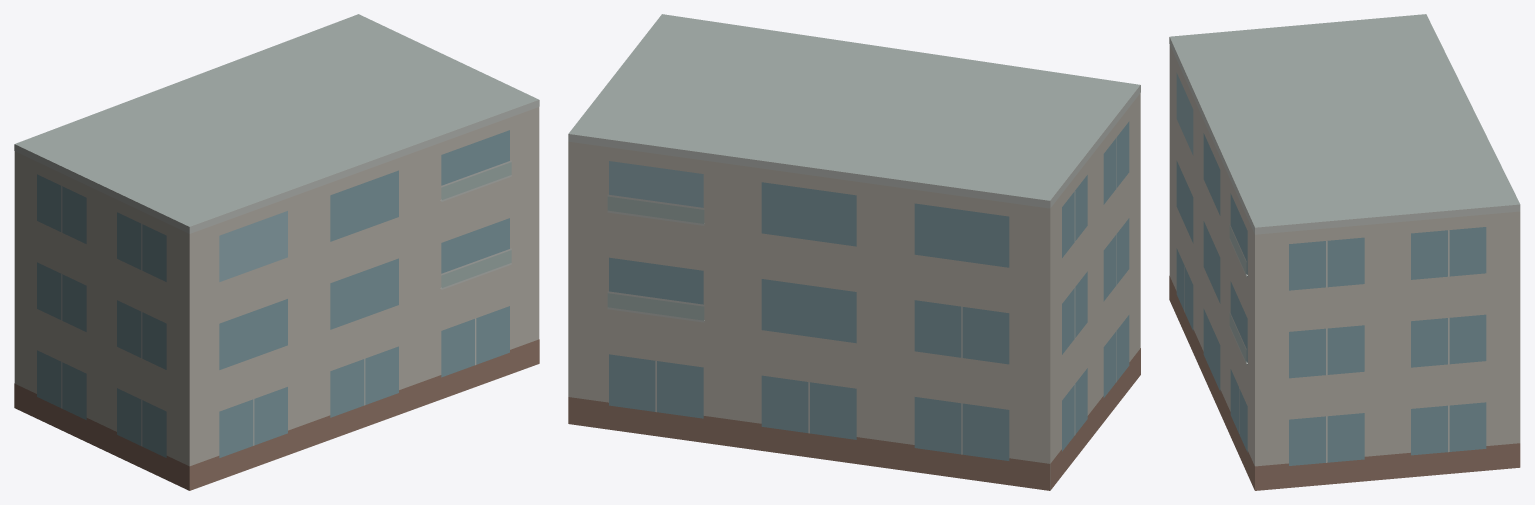
The model's file is survey-upis-32707348.glb.
3 renders of one model, left to right at view 1: azimuth 30°, elevation 25°; view 2: azimuth 150°, elevation 25°; view 3: azimuth 270°, elevation 25°, orthographic. The views are drawn at different scales.
Visible parts, largest first — view 1: survey-upis-32707348.tmp; view 2: survey-upis-32707348.tmp; view 3: survey-upis-32707348.tmp.
Part boxes in pixels (bbox=[...]): survey-upis-32707348.tmp: bbox=[14, 14, 539, 490]; survey-upis-32707348.tmp: bbox=[568, 14, 1140, 490]; survey-upis-32707348.tmp: bbox=[1169, 14, 1520, 490].
Size of the model in its own units: 15.94 by 9.15 by 11.07.
